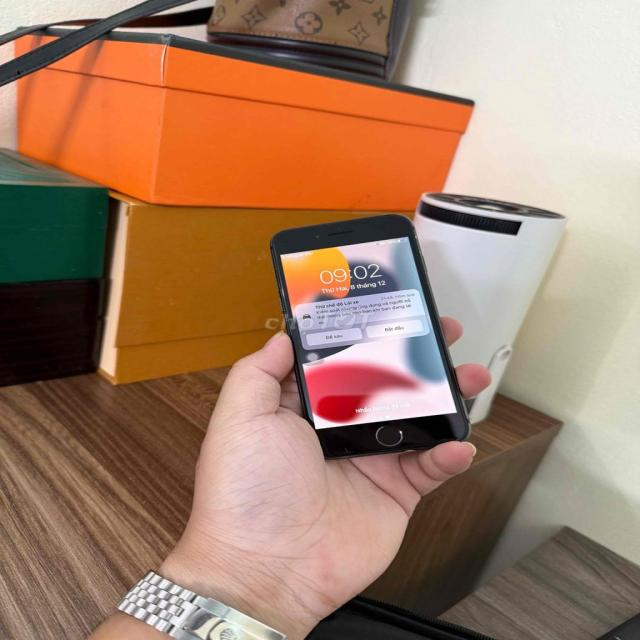gen_12_13: (269, 214, 471, 459)
scratch: (324, 220, 344, 231), (333, 444, 354, 454), (396, 427, 406, 437)
